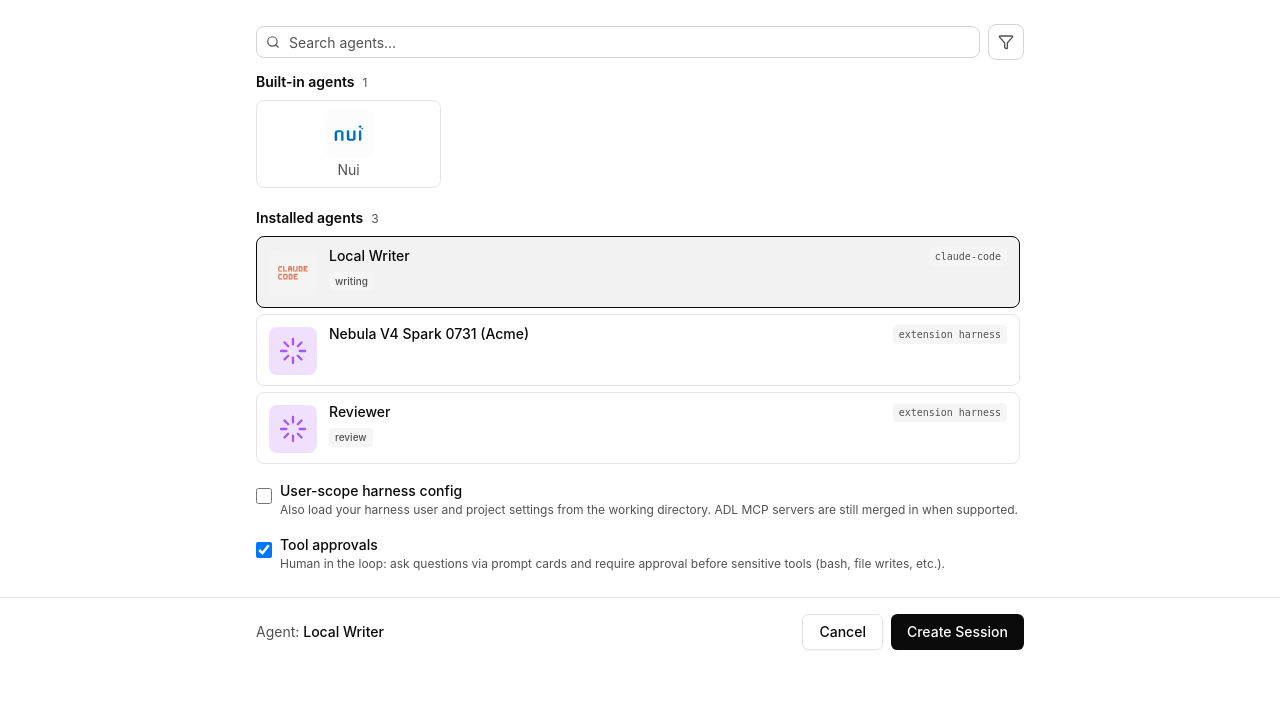
Scenario: NewSessionPanel tag filter › drops selected tags that no longer apply after a source change
Click the button named "Filters".
click(1006, 42)  # box [988,24,1024,60]
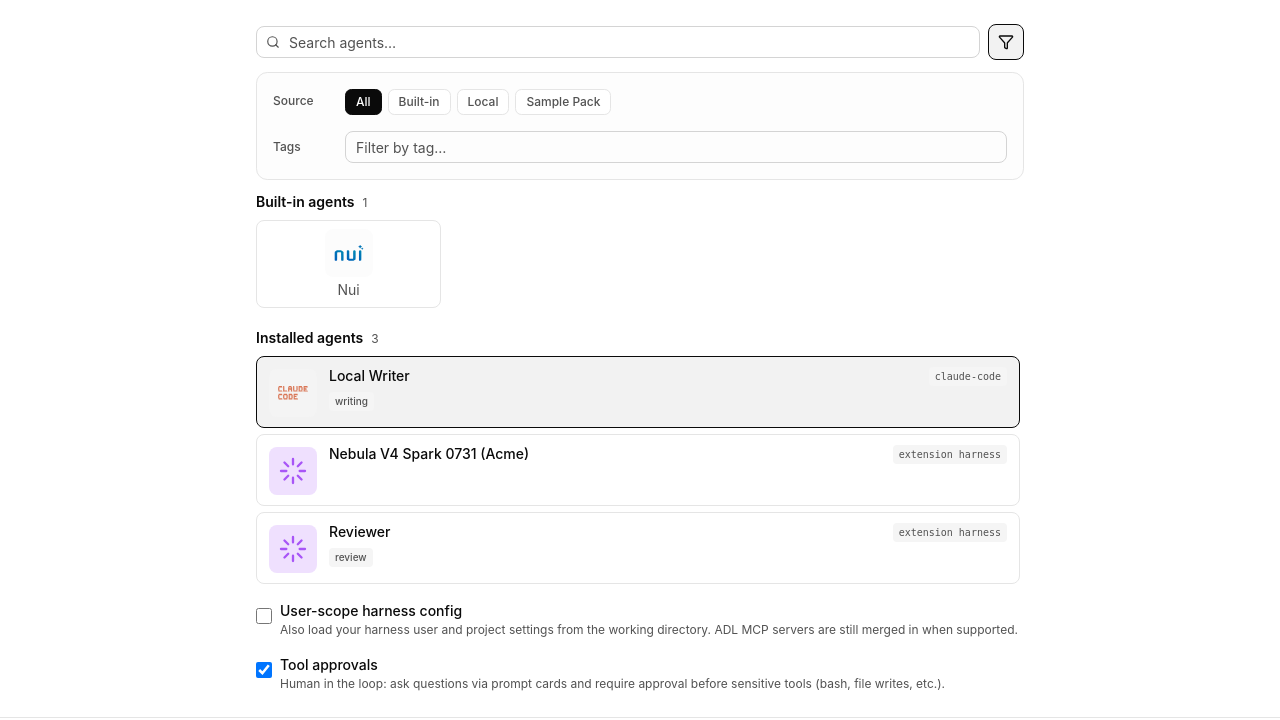
Check: the dropdown with placeholder "Filter by tag…" is shown
Focus the dropdown with placeholder "Filter by tag…" at (676,147), box [345,131,1007,163]
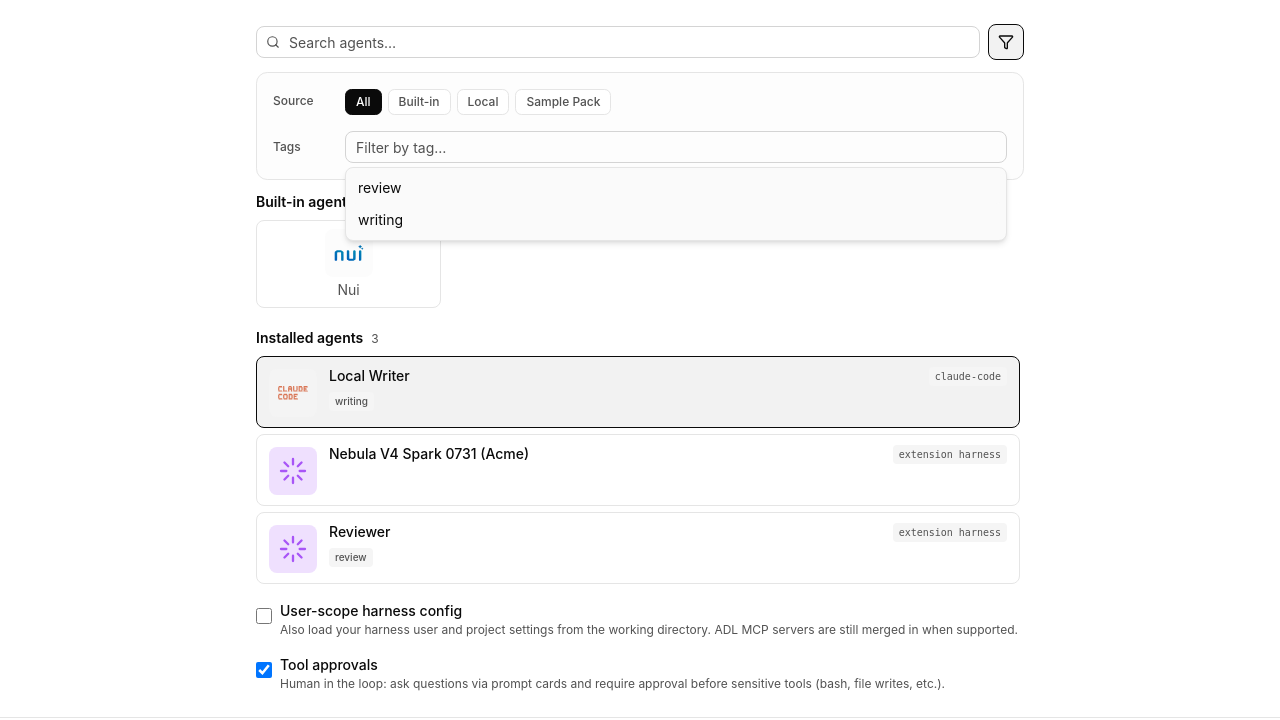
Press the mouse on the option "writing" at (381,220), box [358,211,403,228]
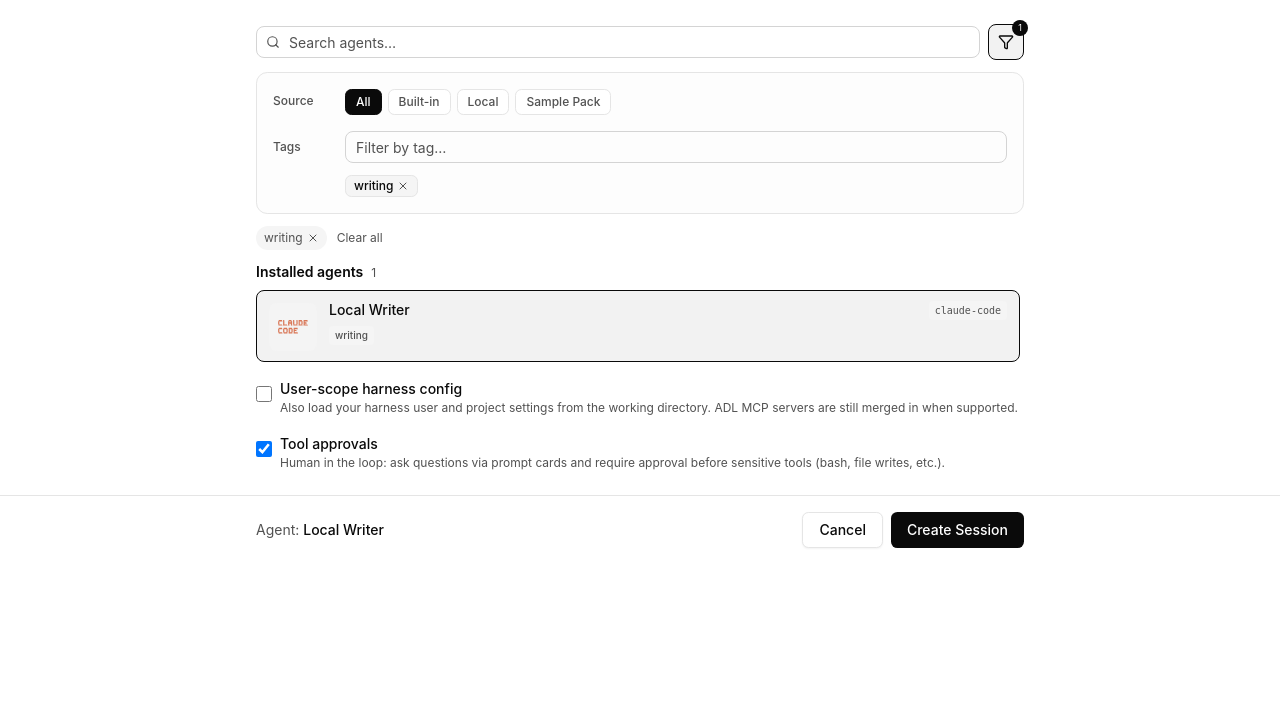
Check: the button named "Remove tag writing" is shown, box [398,180,410,192]
Click the button "Sample Pack".
click(564, 102)  # box [516,89,612,115]
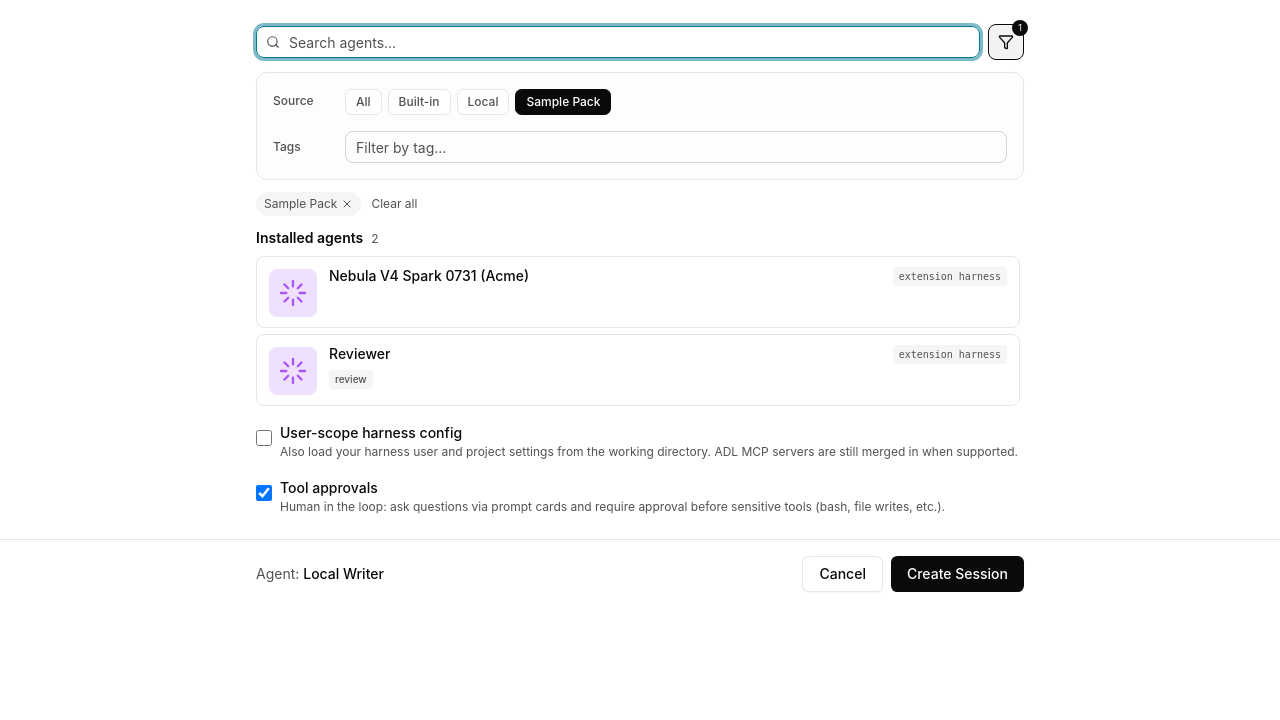
Check: the text "Reviewer" is shown, box [329,345,390,362]
